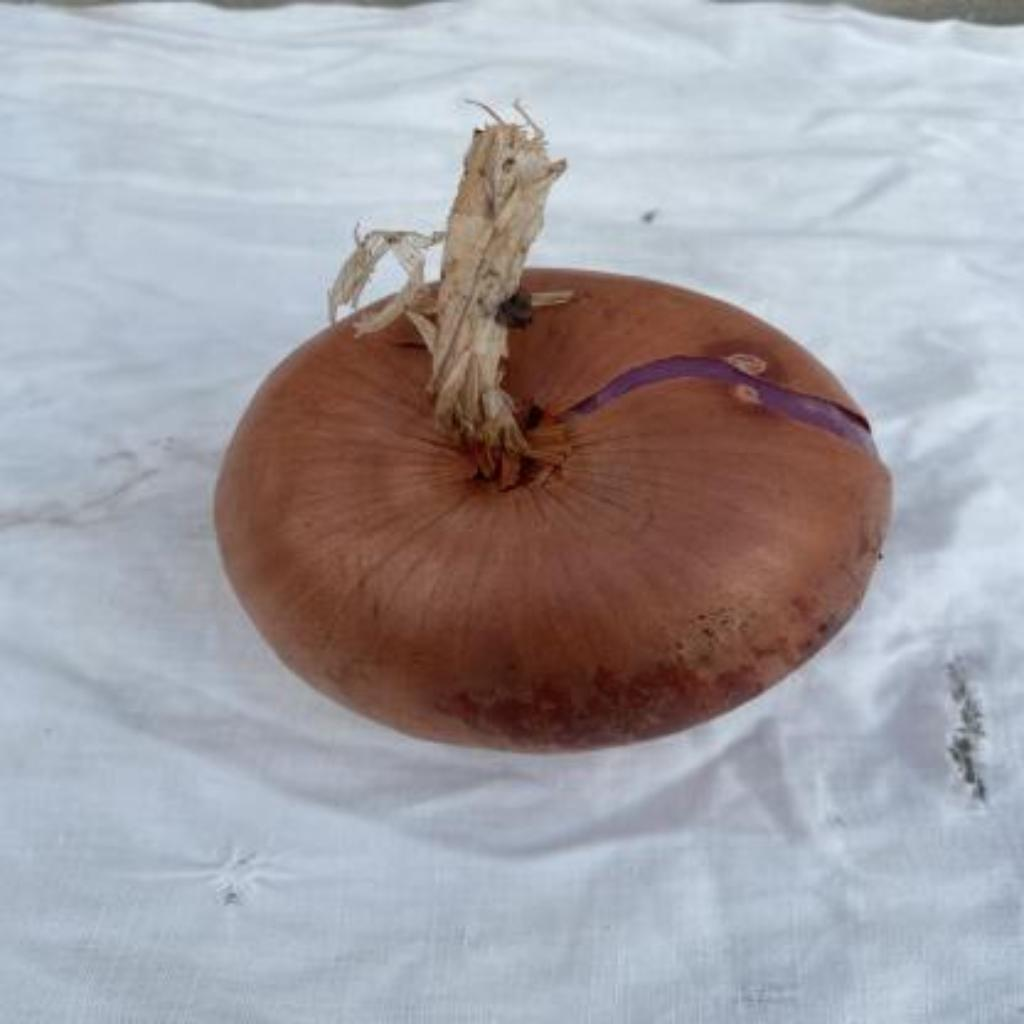Onion: (214, 106, 894, 752)
